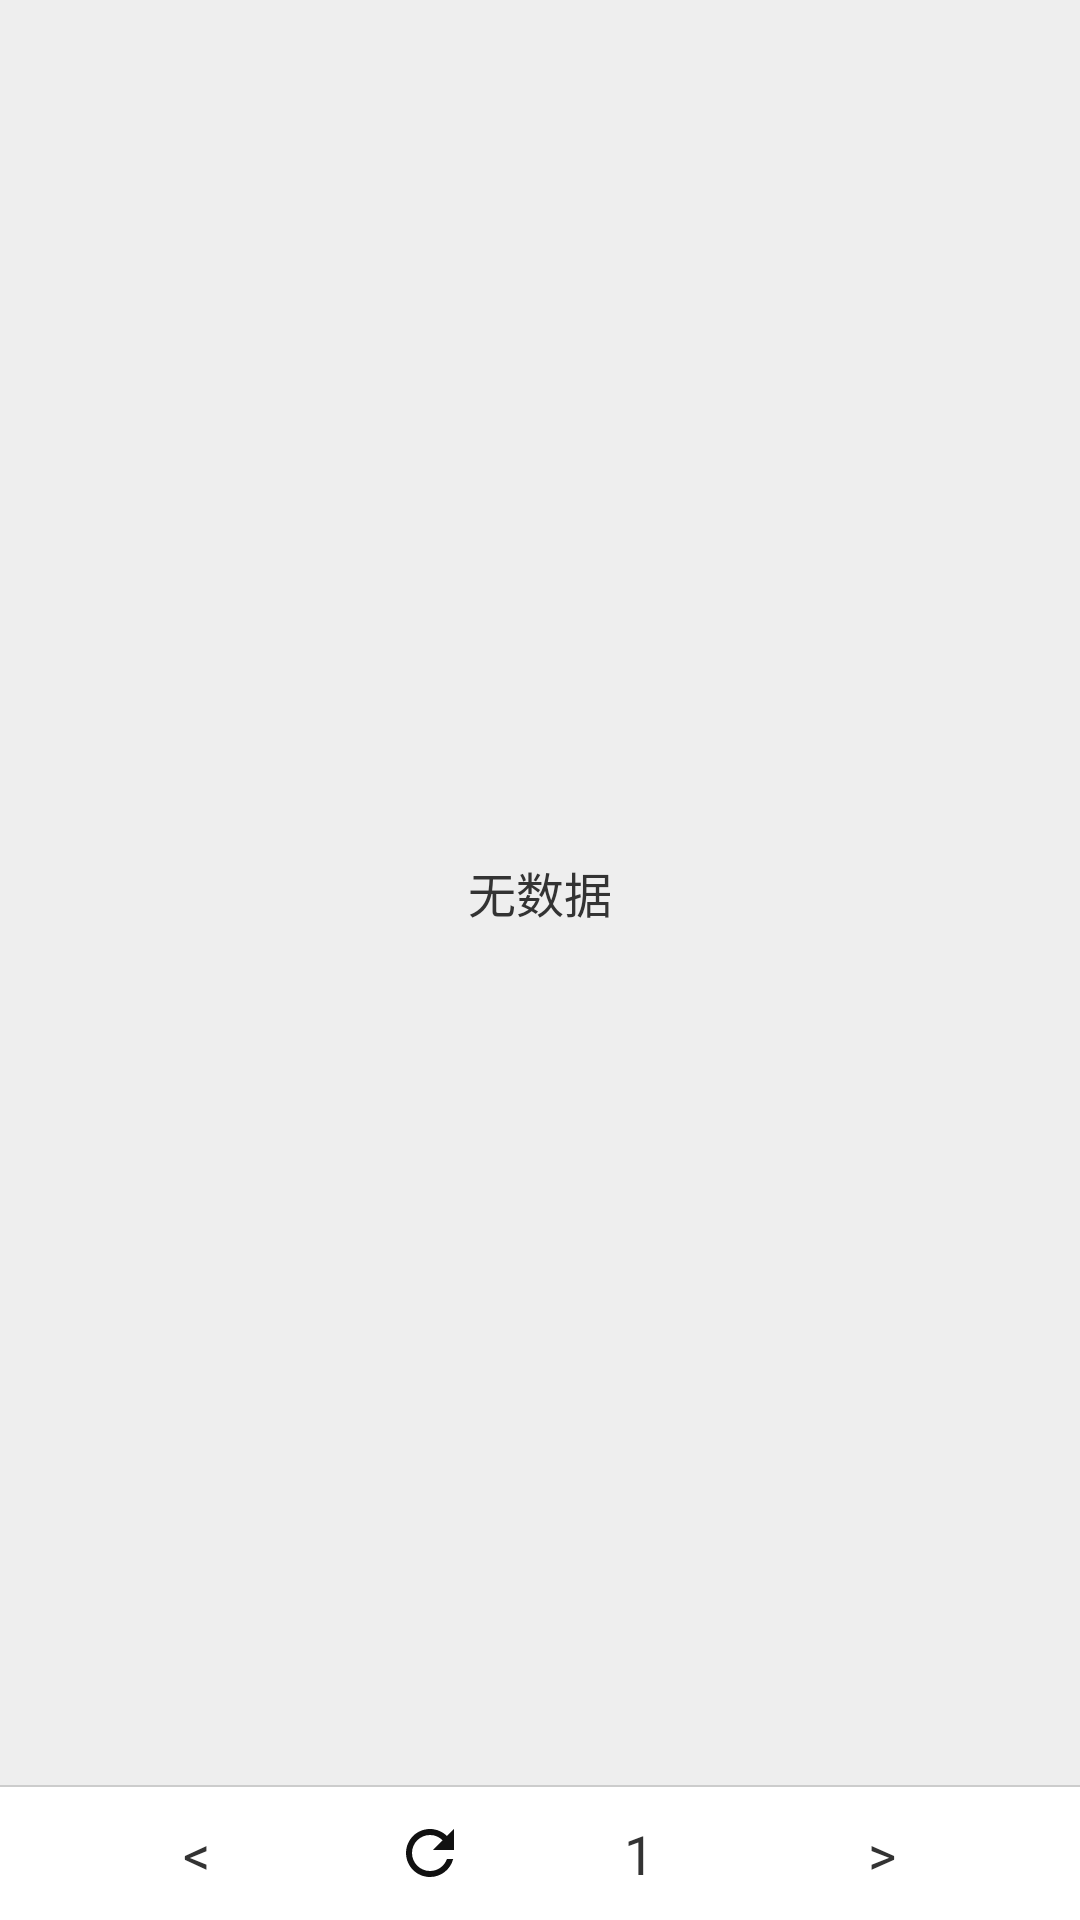

Icons on this 1080x1920 Android screen, each with the point to tap as point (x, y):
refresh: point (430, 1853)
